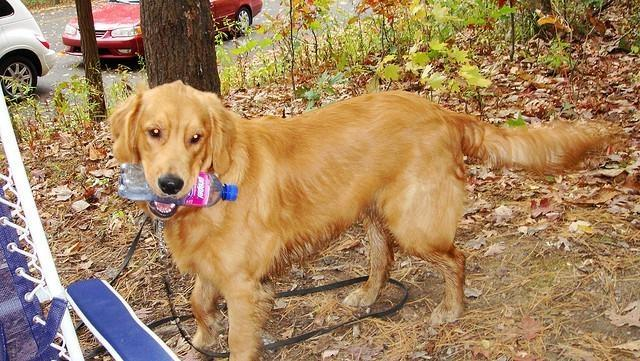car: (66, 3, 262, 57), (1, 1, 56, 101)
